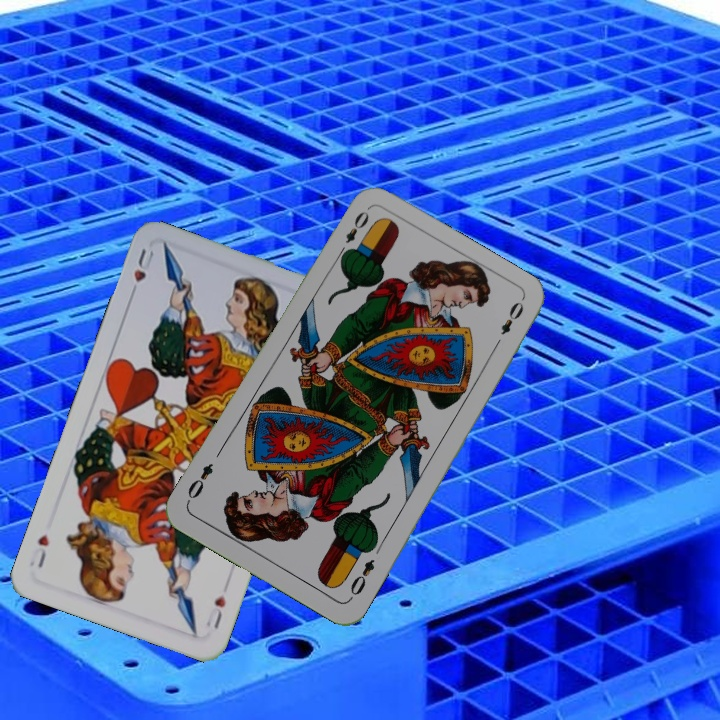EO: (334, 207, 372, 260), (345, 555, 377, 603)
HU: (126, 244, 157, 300), (201, 591, 229, 633)
